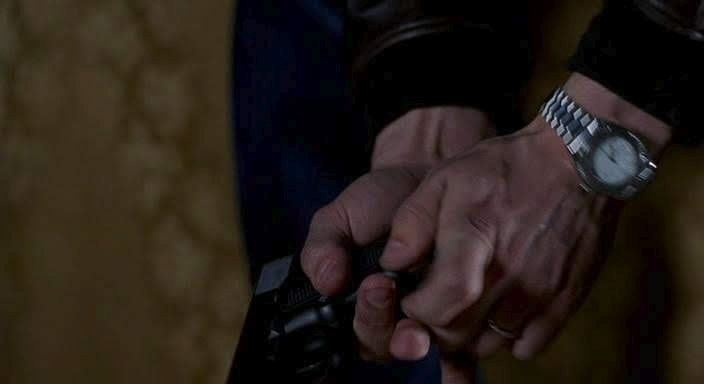gun: (222, 244, 519, 376)
